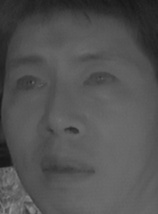eye: (81, 68, 121, 95), (10, 73, 52, 95)
mouth: (38, 153, 96, 189)
